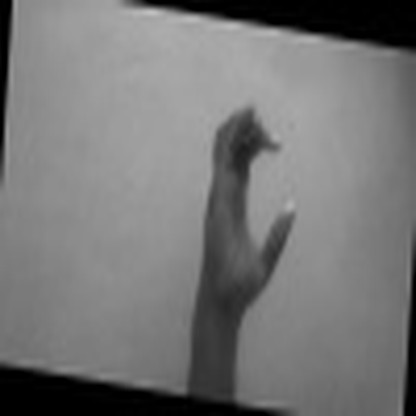c: (200, 103, 300, 304)
